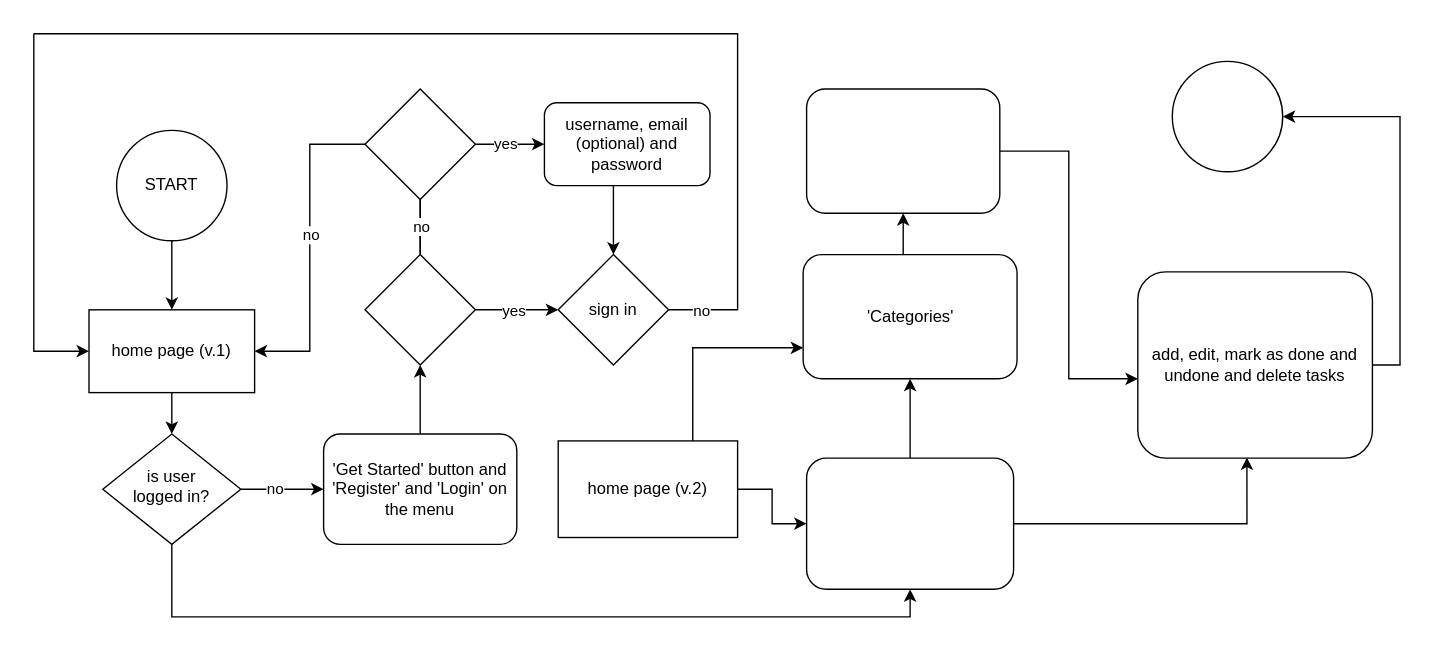
Image size: 1435x653. Some labels were removed from this diagram. The shapes that lost their labels are listed below. From the top down, each one's box as (x1, y1, x2, y2) in pixels, then its label:
(1171, 60, 1283, 172): END
(364, 88, 475, 199): sign up
(805, 88, 1000, 213): add, edit, delete categories
(364, 253, 475, 365): have an account?
(805, 457, 1014, 589): 'Tasks'
